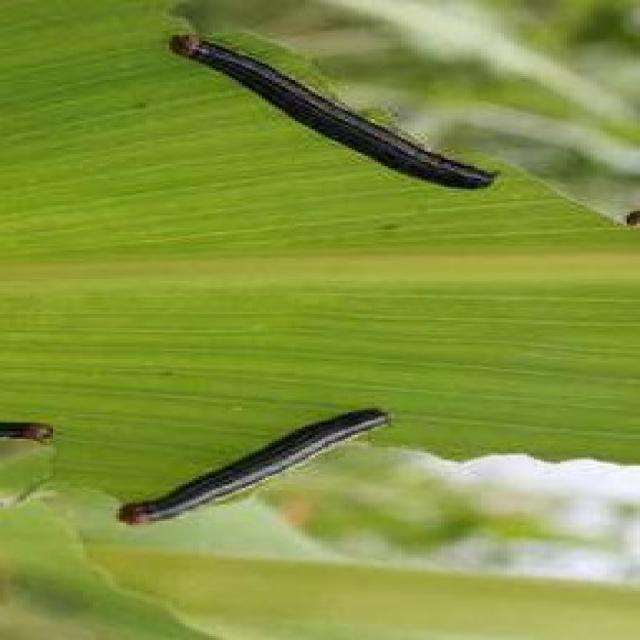army worm: (160, 30, 505, 194), (109, 407, 404, 534), (1, 416, 61, 449)
